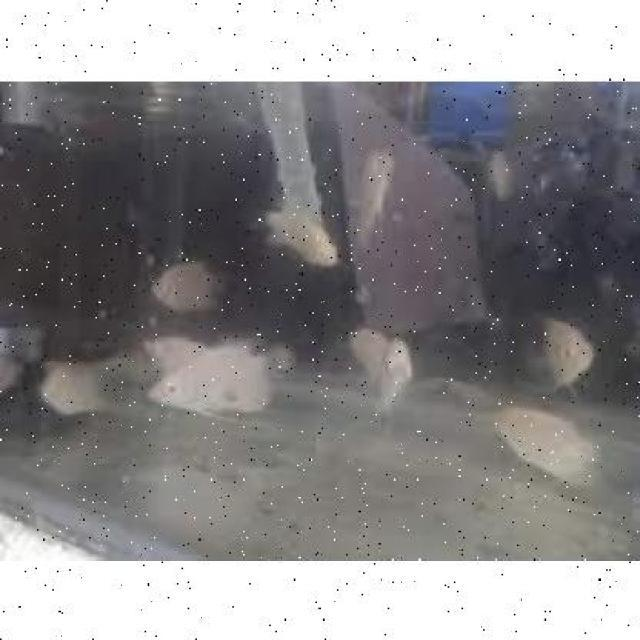gurame: (150, 335, 278, 413), (496, 396, 606, 481)
